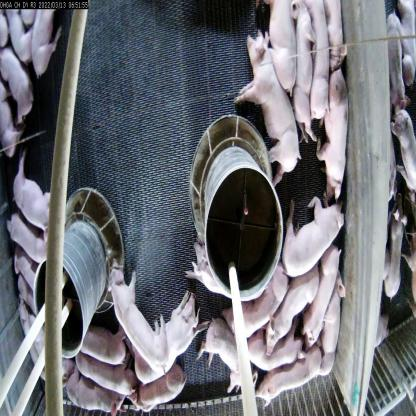Pig: (234, 36, 302, 176), (133, 290, 210, 382), (109, 264, 165, 384), (300, 0, 337, 137), (281, 192, 344, 271), (266, 264, 319, 352), (253, 346, 324, 408), (300, 240, 340, 350), (317, 79, 350, 204), (291, 0, 319, 146), (203, 320, 247, 404), (185, 234, 234, 304), (127, 361, 201, 407), (230, 280, 284, 342), (320, 275, 347, 397), (262, 4, 300, 89), (12, 157, 56, 225), (70, 353, 126, 405), (3, 213, 47, 275), (0, 40, 34, 118), (242, 328, 299, 374), (76, 322, 124, 368), (390, 104, 416, 188)
